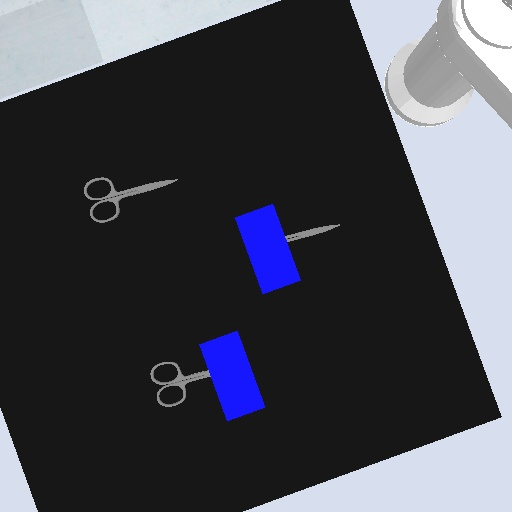tijera: (82, 174, 181, 226), (148, 358, 212, 409), (283, 221, 343, 244)
